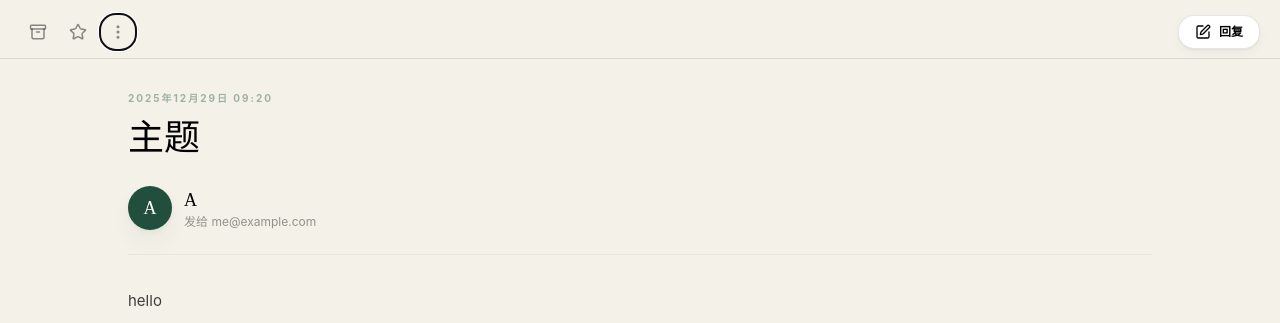
Test: message detail overflow menu › closes on Escape
This screenshot has width=1280, height=323.
Click the button named "更多操作": (118, 32) [100,14,136,50]
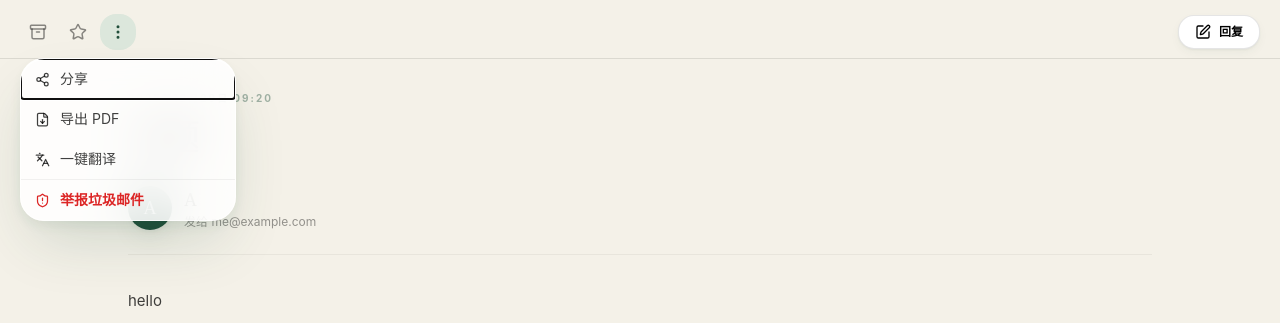
Check: the menu is shown, box [20,58,236,221]
Press Escape
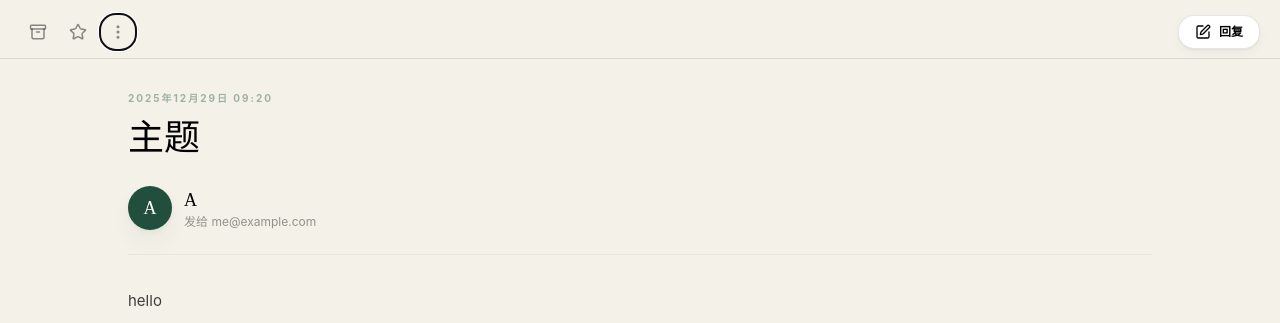
Check: the menu is gone
